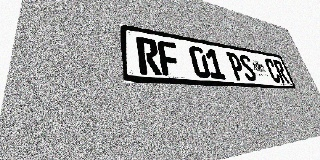0: (188, 45, 211, 79)
1: (203, 48, 226, 79)
C: (263, 58, 282, 83)
F: (157, 40, 182, 77)
P: (226, 52, 247, 81)
R: (136, 36, 162, 75), (272, 59, 290, 83)
S: (238, 54, 258, 81)
